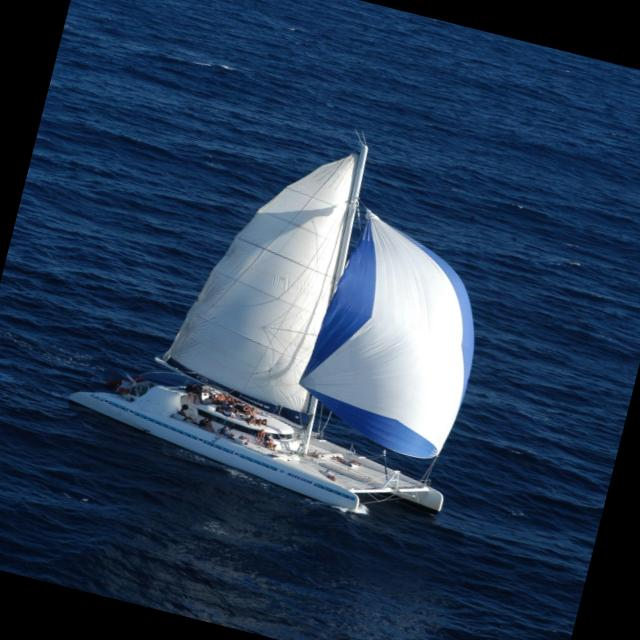boat: (46, 73, 572, 574)
